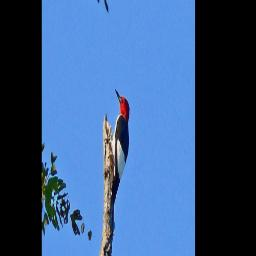Woodpecker: (93, 75, 141, 238)
